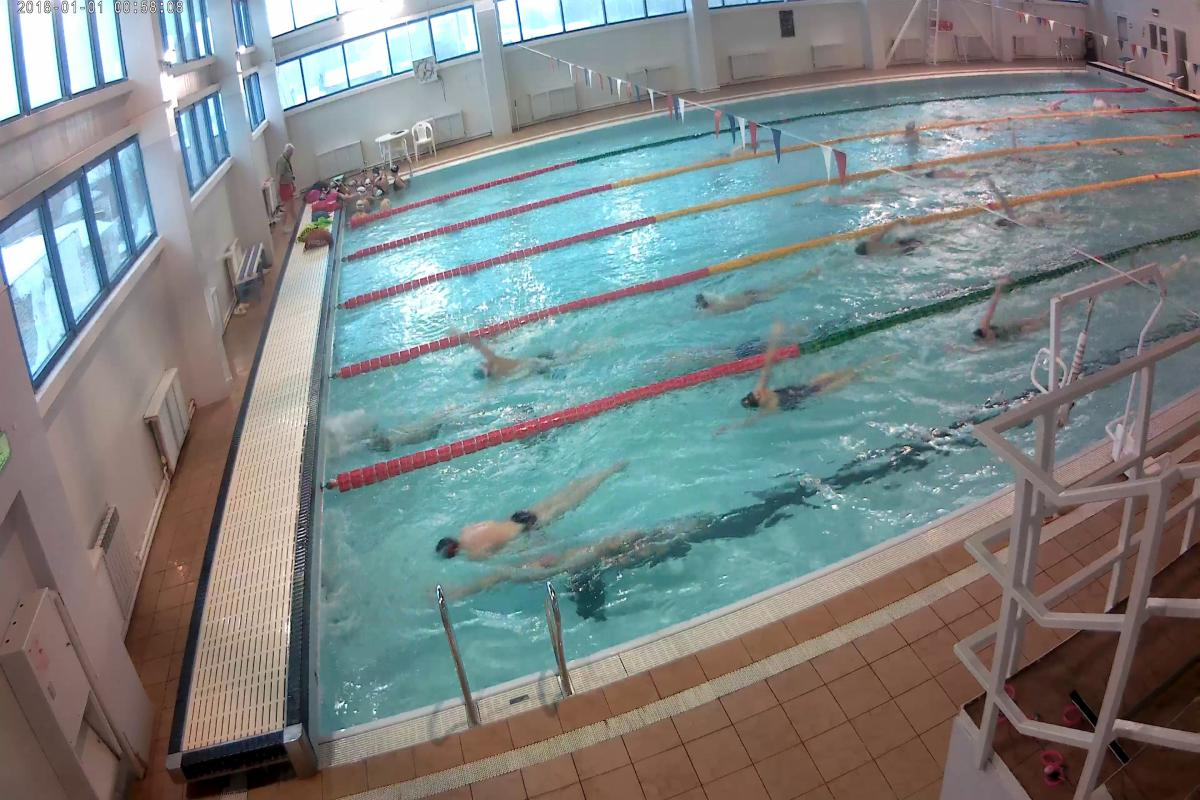swimmer: (432, 473, 616, 524), (733, 368, 891, 418), (499, 534, 665, 572), (344, 413, 462, 456), (961, 298, 1048, 347), (469, 348, 582, 376), (859, 229, 956, 261), (673, 287, 806, 306), (989, 208, 1066, 234), (919, 158, 977, 190)
